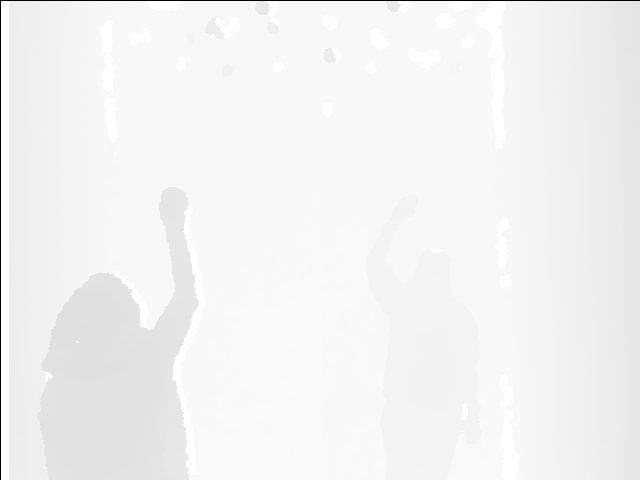hand: (161, 186, 190, 233), (392, 192, 420, 224)
